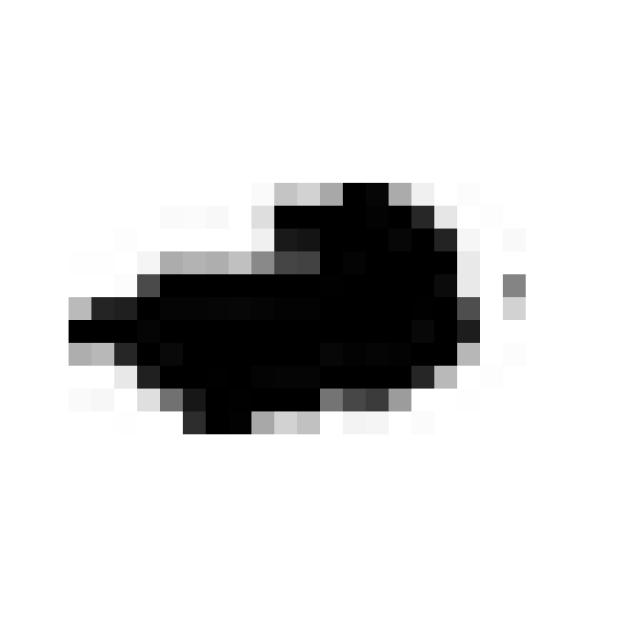0 -zero-: (48, 162, 493, 443)
